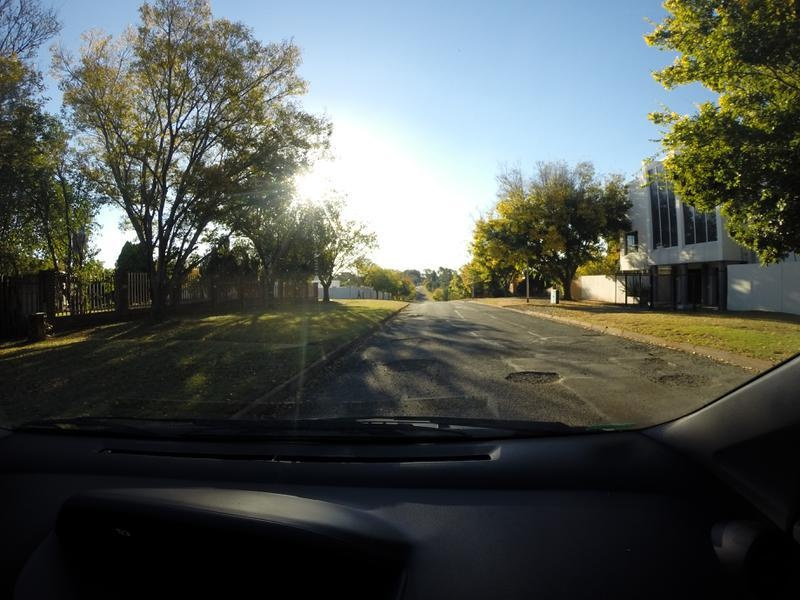pothole: (505, 361, 566, 397), (384, 353, 456, 375), (654, 371, 710, 393), (387, 329, 435, 351)
